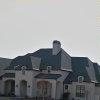Chimney: (49, 35, 72, 67)
